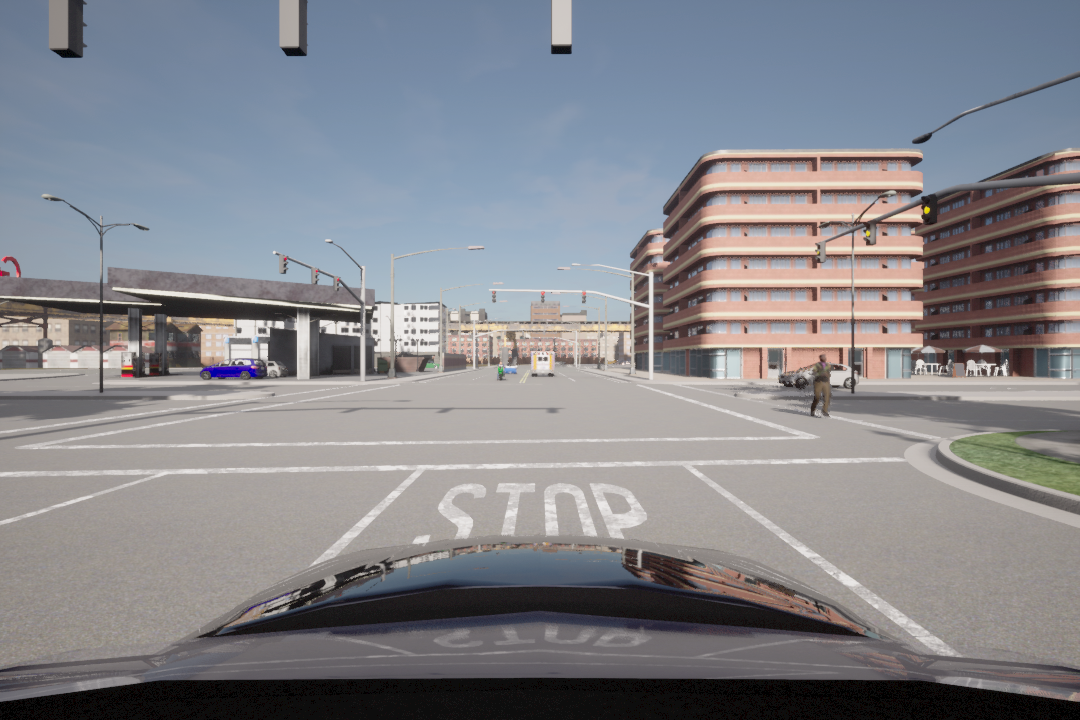TrafficLight: (917, 191, 937, 226), (863, 222, 883, 250), (812, 235, 827, 265), (279, 252, 291, 275), (309, 265, 321, 284), (578, 290, 588, 309), (333, 274, 342, 294), (491, 289, 500, 304), (540, 288, 545, 308)
